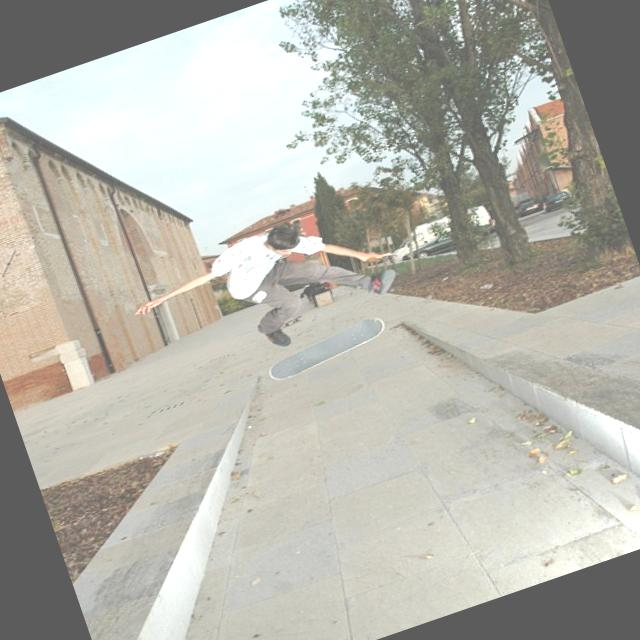Vehicle: (398, 216, 497, 268), (386, 213, 460, 262), (541, 188, 573, 212), (516, 198, 542, 217)
